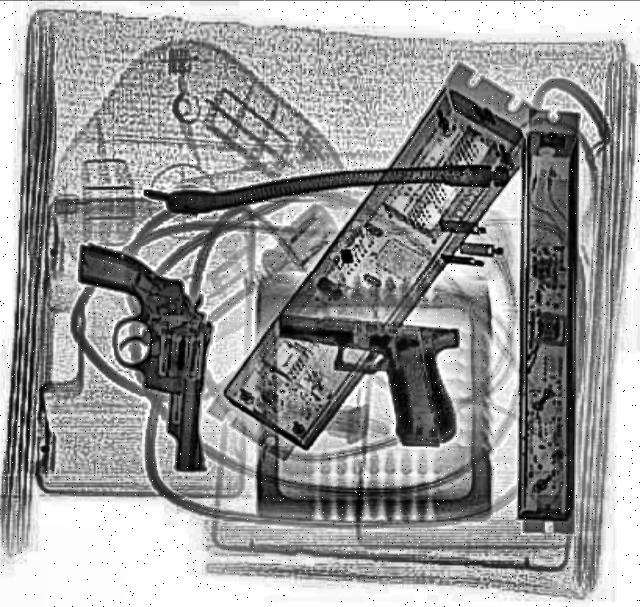Gun: (67, 241, 221, 470), (268, 309, 472, 448)
